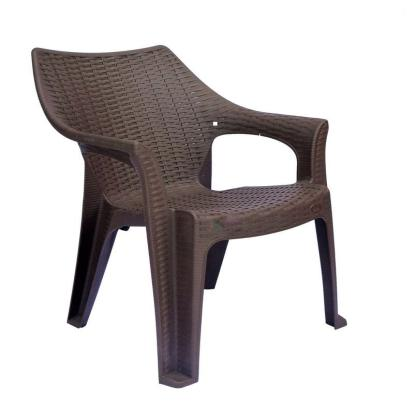chair: (30, 47, 352, 392)
